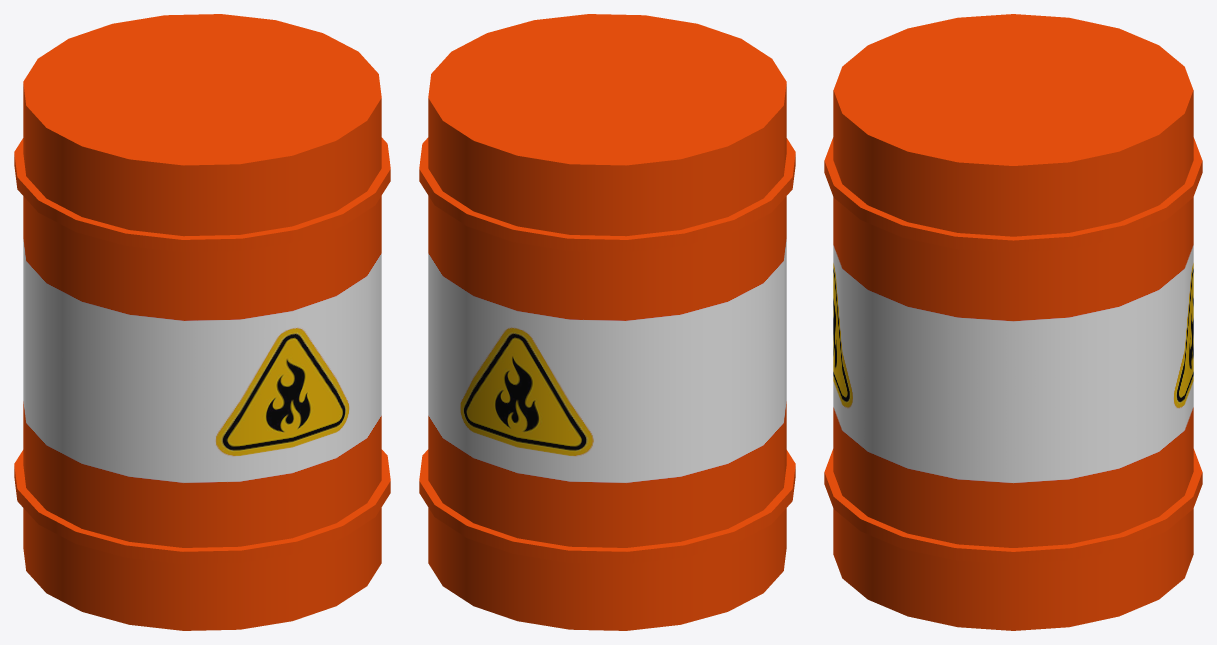
File: oildrum.fbx
3 renders of one model, left to right at view 1: azimuth 30°, elevation 25°; view 2: azimuth 150°, elevation 25°; view 3: azimuth 270°, elevation 25°, orthographic.
Parts seen in each view (by area): view 1: pCylinder1; view 2: pCylinder1; view 3: pCylinder1.
Boxes of the visible parts, x1,y1,x2,y2 form: pCylinder1: [14, 14, 390, 630]; pCylinder1: [419, 14, 795, 630]; pCylinder1: [824, 14, 1202, 630].
Size of the model in its own units: 35.47 by 48.12 by 35.47.
